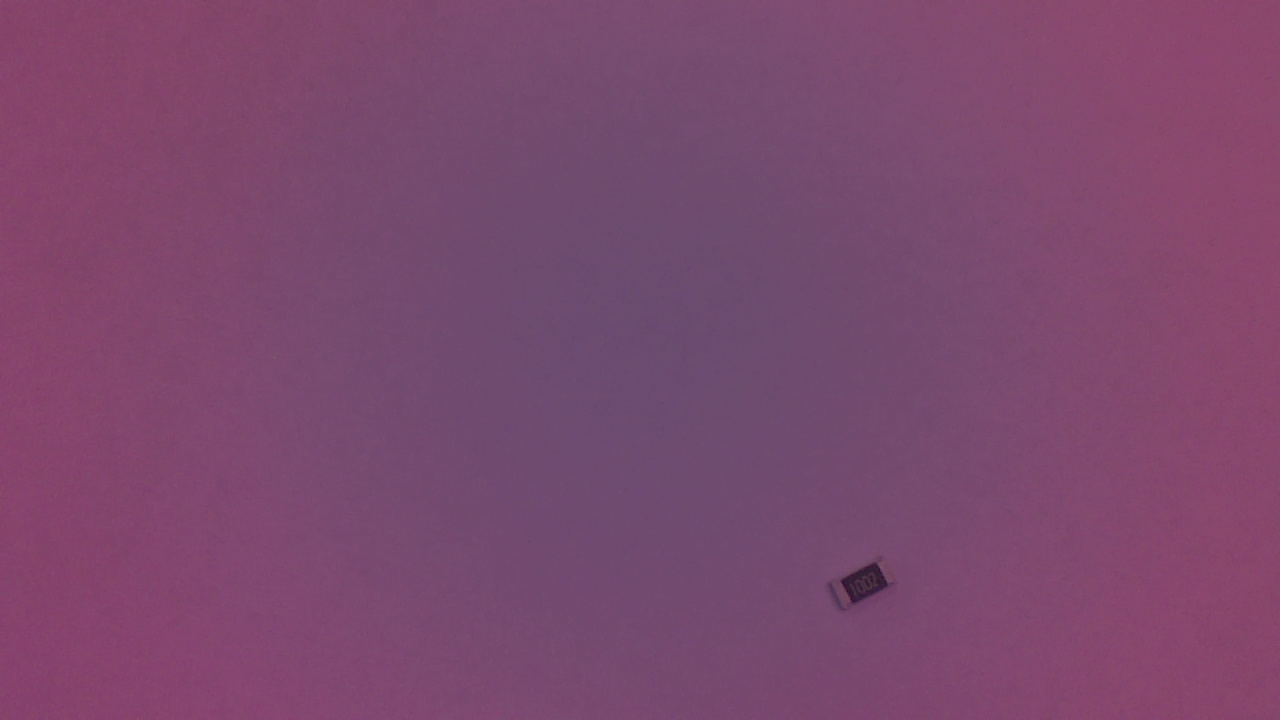Resistor: (824, 553, 905, 621)
